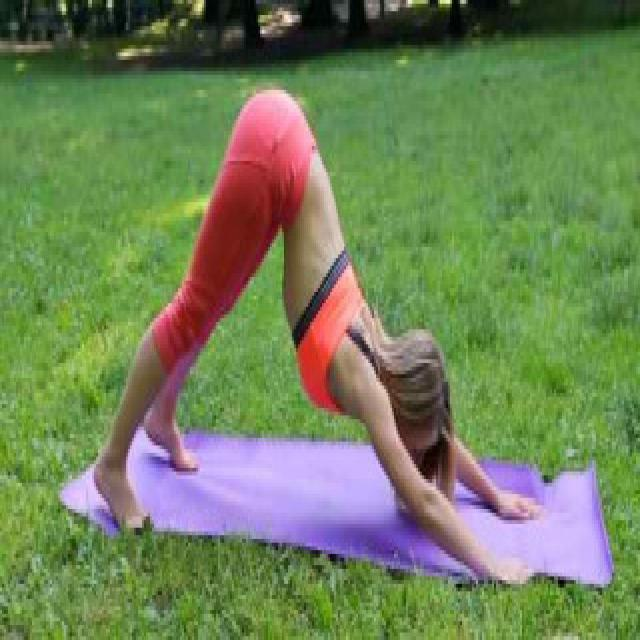yoga-pose downward: (88, 83, 546, 589)
